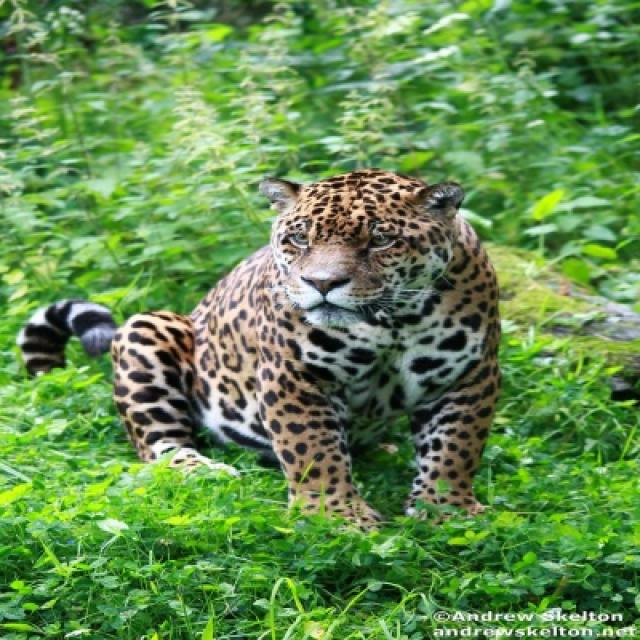Jaguar: (22, 171, 504, 534)
